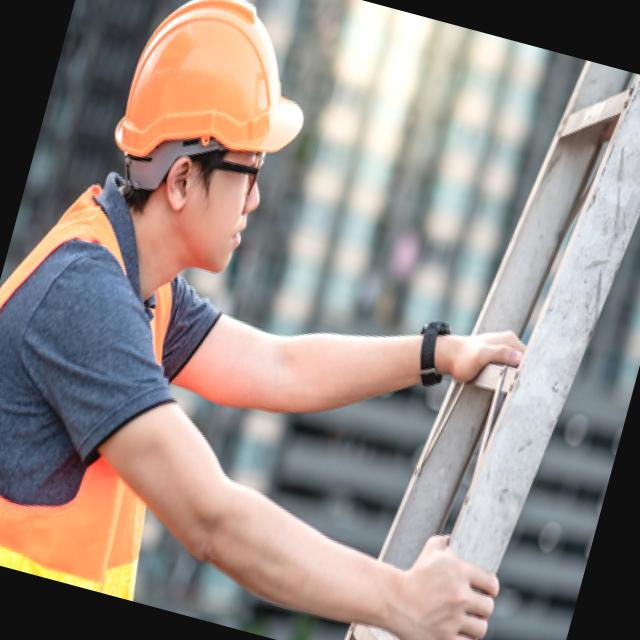goggles: (190, 138, 272, 196)
helmet: (108, 0, 335, 195)
vest: (0, 171, 238, 602)
